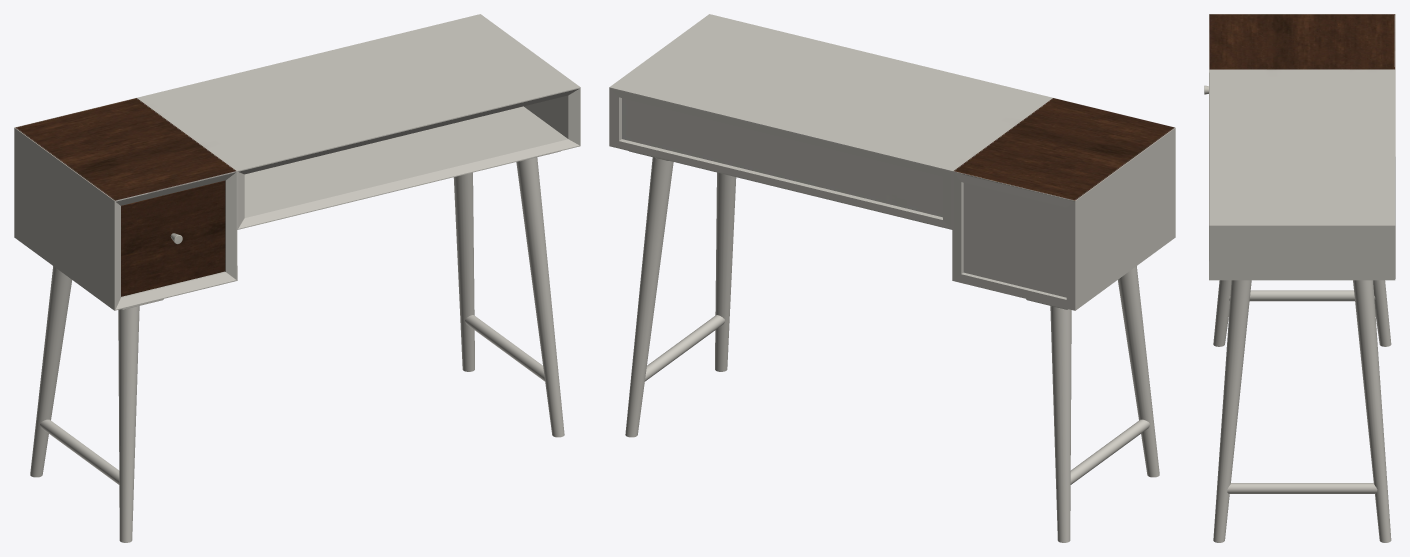
Rendered from B07HSJDN75.glb.
The picture shows the model from 3 angles, left to right: view 1: azimuth 30°, elevation 25°; view 2: azimuth 150°, elevation 25°; view 3: azimuth 270°, elevation 25°; orthographic projection. The views are drawn at different scales.
Visible parts, largest first — view 1: RootNode; view 2: RootNode; view 3: RootNode.
Boxes of the visible parts, x1=… form: RootNode: x1=14, y1=14, x2=580, y2=542; RootNode: x1=609, y1=14, x2=1175, y2=542; RootNode: x1=1204, y1=14, x2=1395, y2=542.
Bounding box in the file's own units: 1.07 × 0.7607 × 0.4086.
1 material, 1 textured.
